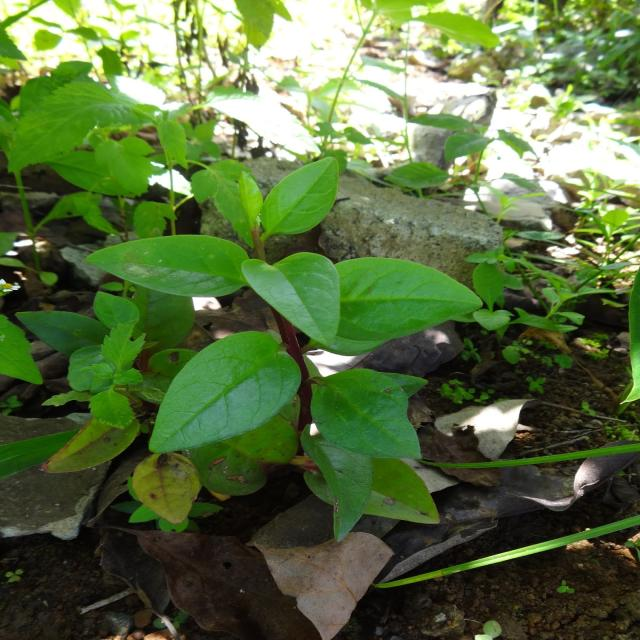Medicinal-Basale: (25, 55, 459, 530)
